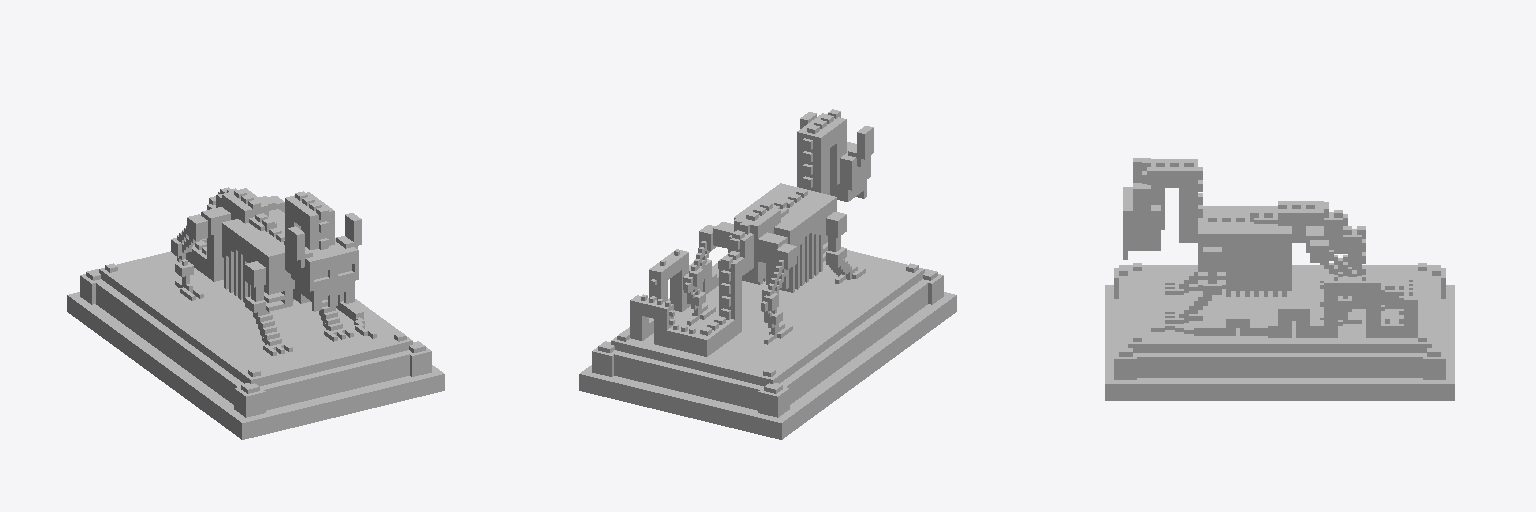
The model's file is Package 01 Necro Dungeon-24.obj.
The picture shows the model from 3 angles: view 1: azimuth 30°, elevation 25°; view 2: azimuth 150°, elevation 25°; view 3: azimuth 270°, elevation 25°; orthographic projection.
Visible parts, largest first — view 1: object 1; view 2: object 1; view 3: object 1.
Boxes of the visible parts, x1,y1,x2,y2 form: object 1: [67, 187, 444, 439]; object 1: [579, 109, 956, 439]; object 1: [1105, 158, 1454, 400].
Size of the model in its own units: 5 by 4.5 by 7.5.